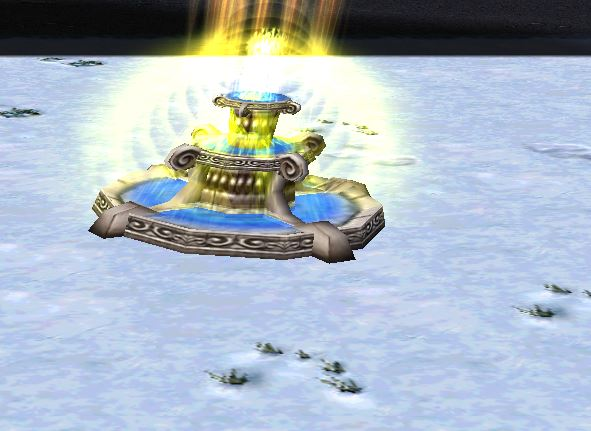sunwell: (87, 84, 389, 256)
